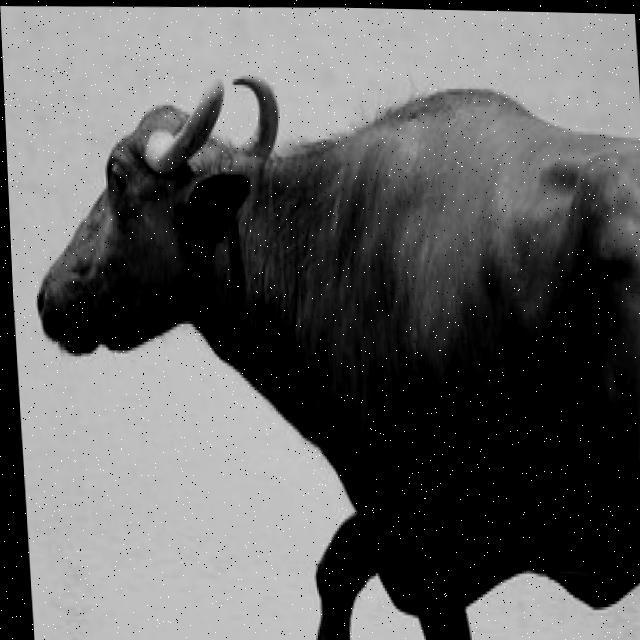Buffalo: (17, 54, 640, 640)
